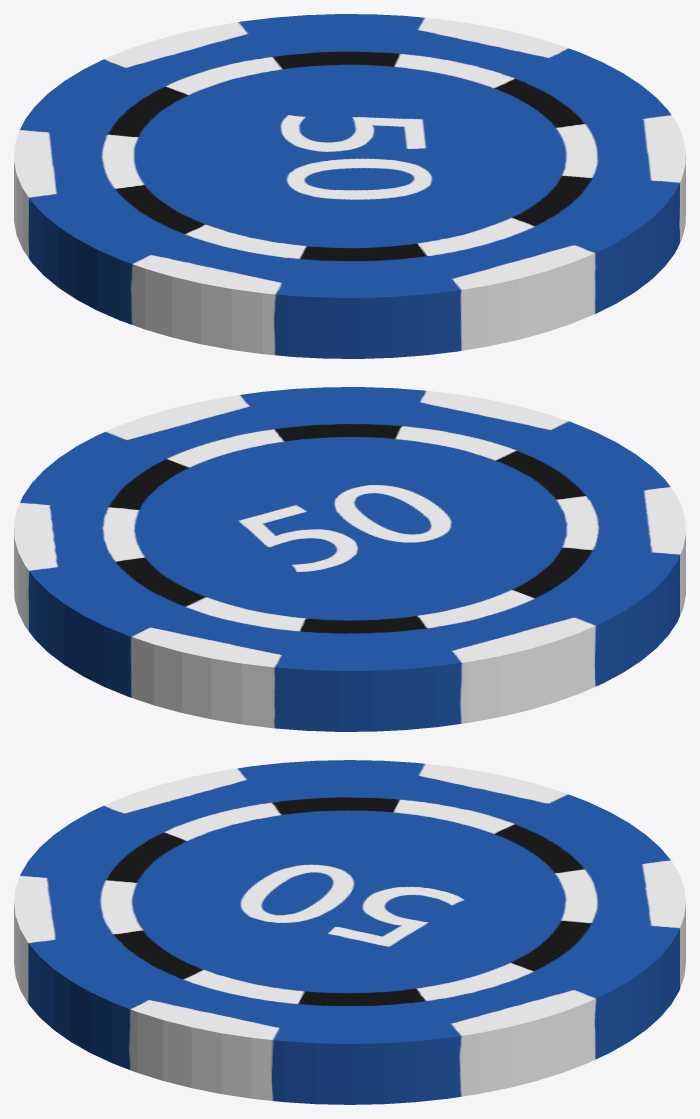
3 renders of one model, top to bottom at view 1: azimuth 30°, elevation 25°; view 2: azimuth 150°, elevation 25°; view 3: azimuth 270°, elevation 25°, orthographic.
Visible parts, largest first — view 1: Cylinder; view 2: Cylinder; view 3: Cylinder.
Boxes of the visible parts, x1,y1,x2,y2 form: Cylinder: [14, 14, 685, 358]; Cylinder: [14, 387, 685, 731]; Cylinder: [14, 760, 685, 1104].
Bounding box in the file's own units: 0.04 × 0.004 × 0.04.
1 material, 1 textured.
